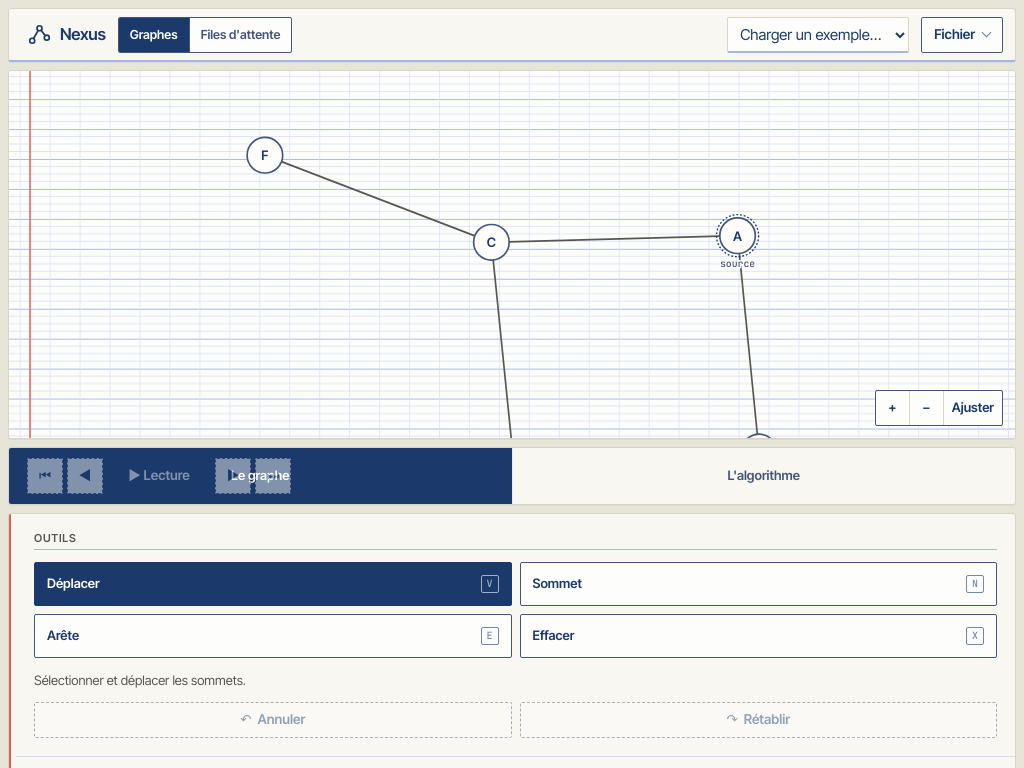
le menu Fichier › se ferme sur un clic à côté
Click the button "Fichier": (962, 34) [921,16,1003,52]
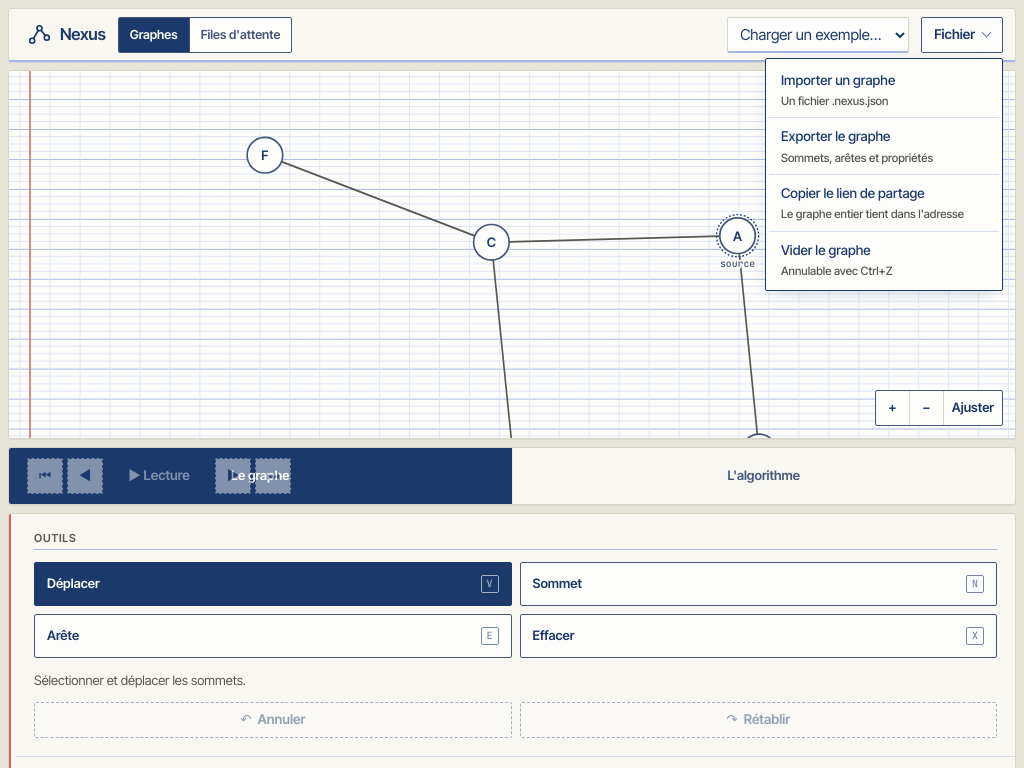
Press the mouse on the element that starts with "Nexus": (512, 384) [0,0,1023,767]
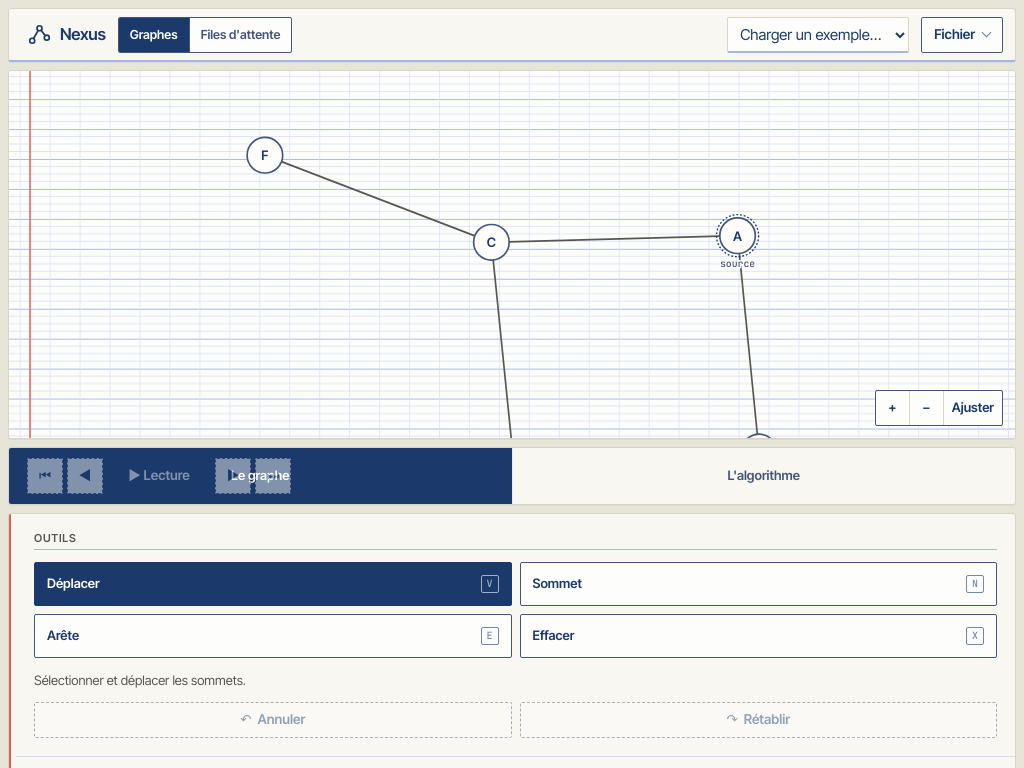
Expected: the menu item is gone
